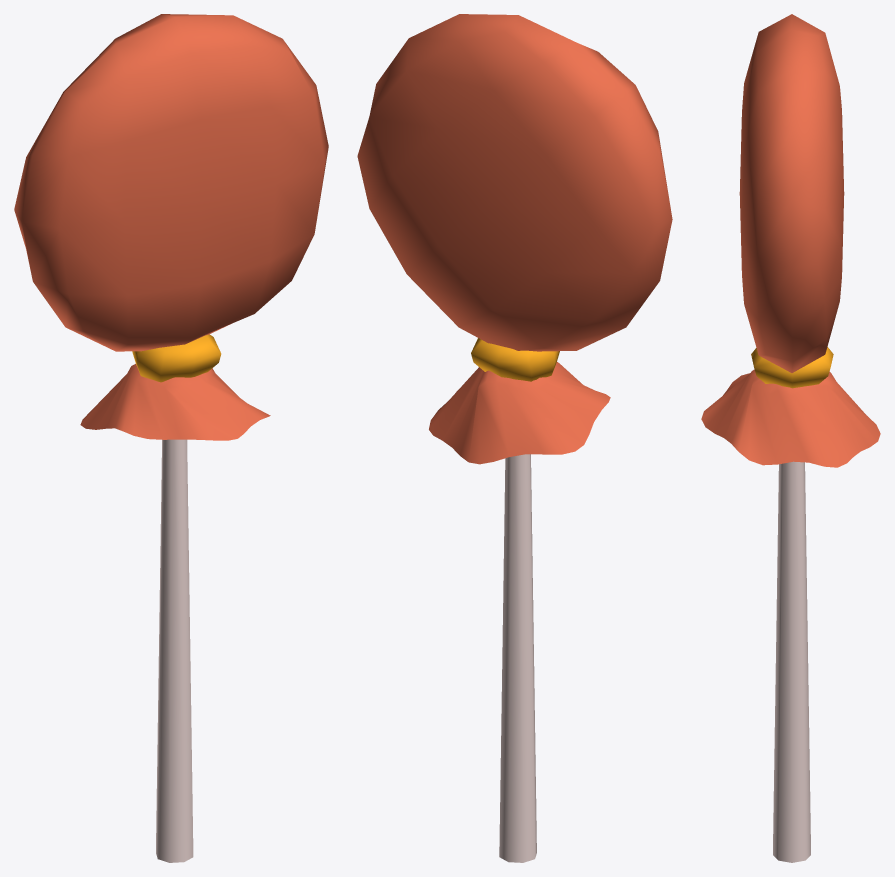
Rendered from Pop 1.fbx.
The picture shows the model from 3 angles, left to right: view 1: azimuth 30°, elevation 25°; view 2: azimuth 150°, elevation 25°; view 3: azimuth 270°, elevation 25°; orthographic projection.
Parts seen in each view (by area): view 1: Pop 1; view 2: Pop 1; view 3: Pop 1.
Boxes of the visible parts, x1,y1,x2,y2 form: Pop 1: [14, 14, 328, 862]; Pop 1: [357, 14, 672, 862]; Pop 1: [701, 14, 880, 862].
Size of the model in its own units: 7.39 by 19.27 by 3.8.
